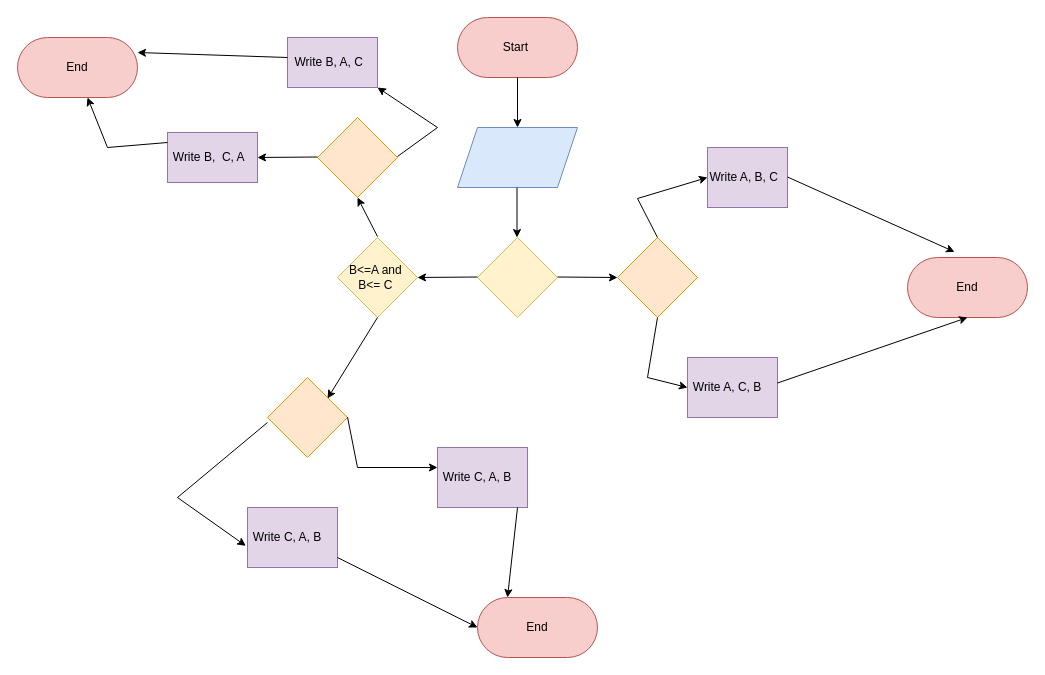
The diagram is 1045 pixels wide and 675 high, and some of its shapes have lost their labels. Each missing label, with the centre of its shape:
"A<=B" goes at (x=307, y=417).
"A<=B and A<= C" goes at (x=517, y=277).
"A<=C" goes at (x=357, y=157).
"B<=C" goes at (x=657, y=277).
"Enter inputs A, B and C" goes at (x=517, y=157).
